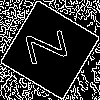Z: (25, 25, 77, 66)
